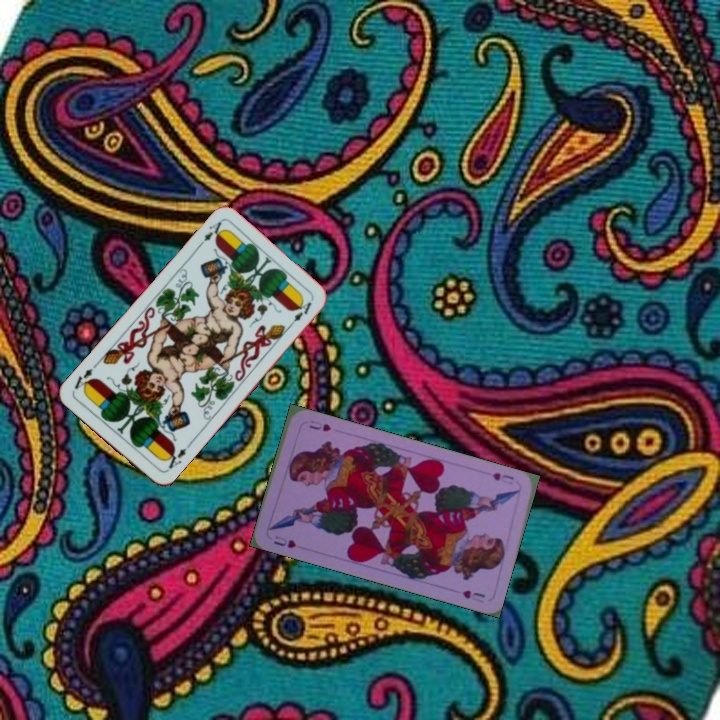EA: (160, 440, 193, 474), (194, 217, 227, 250)
HU: (488, 468, 517, 488), (270, 532, 299, 551)
